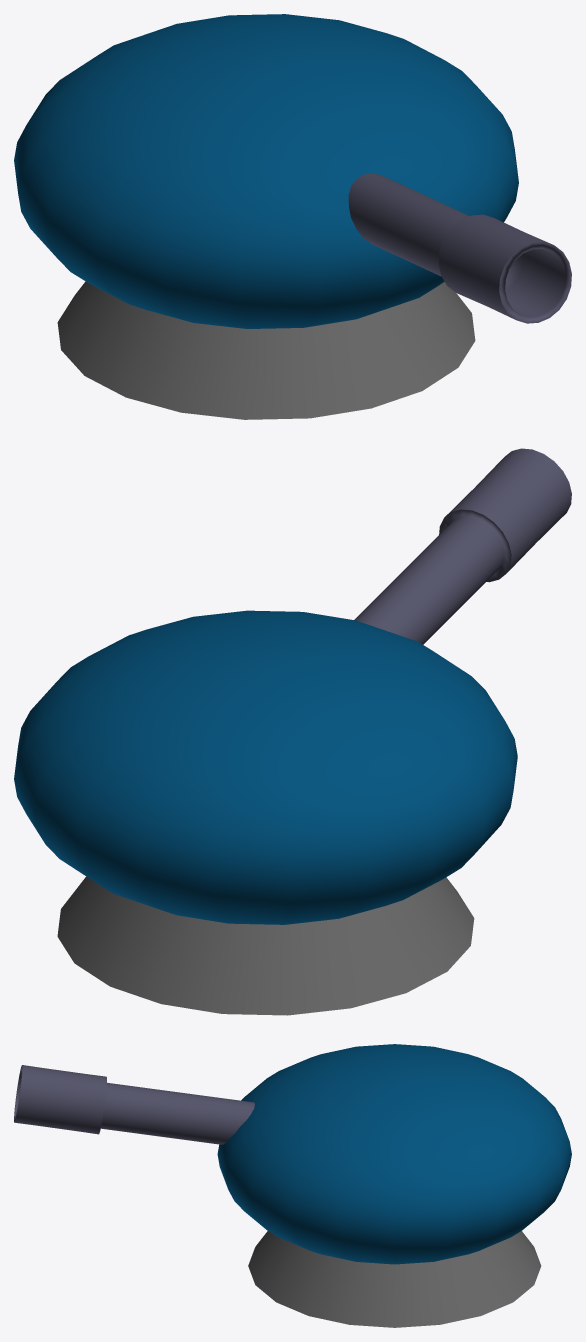
Rendered from turret.fbx.
The picture shows the model from 3 angles, top to bottom: view 1: azimuth 30°, elevation 25°; view 2: azimuth 150°, elevation 25°; view 3: azimuth 270°, elevation 25°; orthographic projection. The views are drawn at different scales.
Parts seen in each view (by area): view 1: pSphere2, pCylinder1; view 2: pSphere2, pCylinder1; view 3: pSphere2, pCylinder1.
Part boxes in pixels (x1,y1,x2,y2): pSphere2: [14, 14, 571, 328]; pCylinder1: [57, 281, 475, 419]; pSphere2: [14, 448, 571, 924]; pCylinder1: [57, 876, 474, 1015]; pSphere2: [14, 1044, 571, 1264]; pCylinder1: [248, 1231, 541, 1327].
Bounding box in the file's own units: 4.54 × 2.8 × 7.15.
